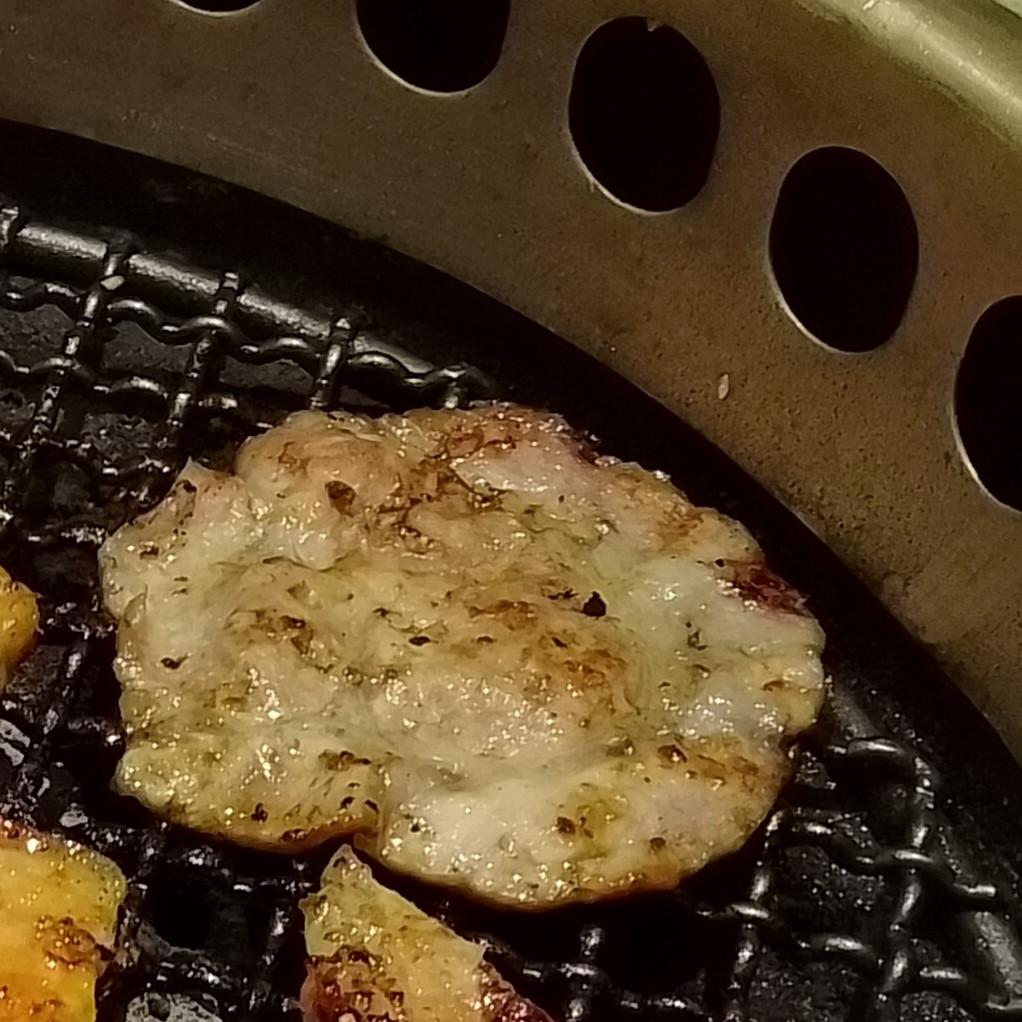Well-Cooked: (98, 405, 830, 909), (302, 855, 542, 1021), (0, 822, 131, 1021)
